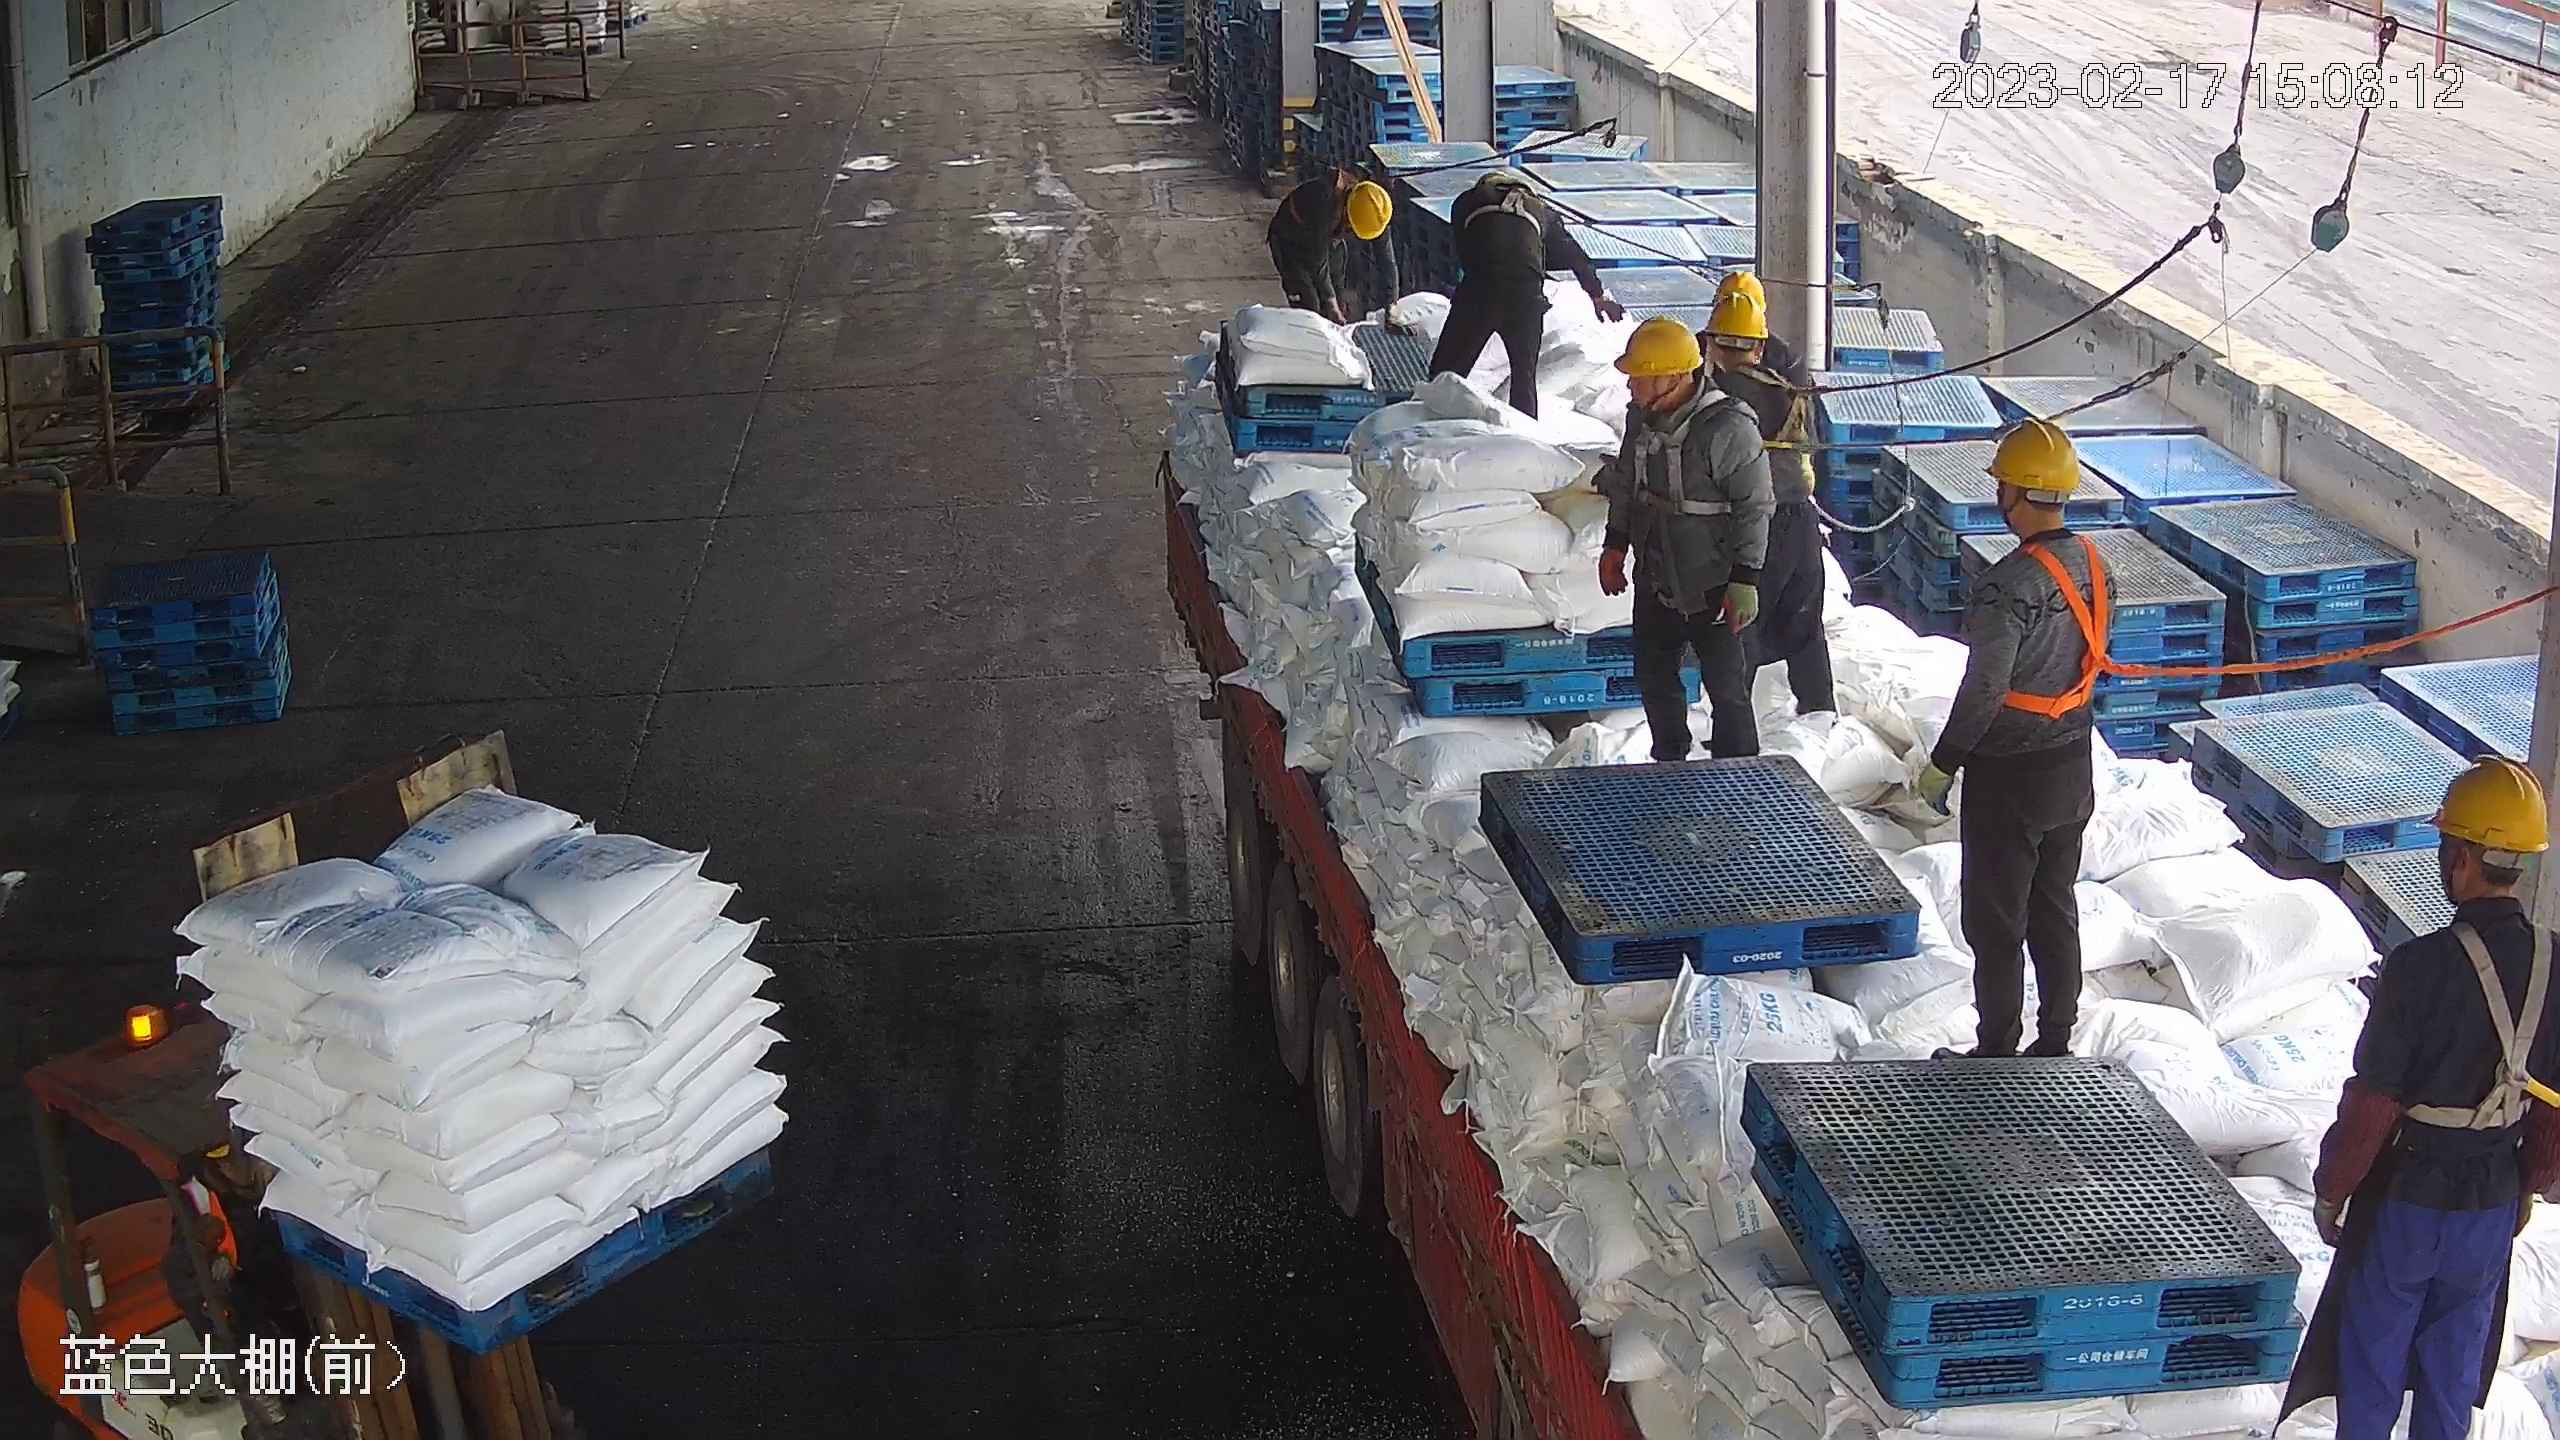belt: (1993, 528, 2141, 716), (1617, 391, 1739, 520), (1738, 360, 1833, 461), (1461, 178, 1558, 241), (1279, 165, 1351, 230), (1700, 331, 1740, 387)
head: (1938, 420, 2117, 604), (1614, 316, 1728, 471), (1702, 293, 1800, 417), (1306, 172, 1394, 254)
helmet: (1985, 420, 2082, 495), (1614, 315, 1705, 379), (1701, 293, 1770, 345), (1344, 181, 1390, 242), (1712, 270, 1769, 305)
people: (2272, 752, 2560, 1440), (1917, 415, 2118, 1060), (1597, 317, 1779, 760), (1702, 293, 1845, 750), (1428, 170, 1626, 420), (1265, 173, 1412, 336)
truck: (1154, 354, 2560, 1440)
